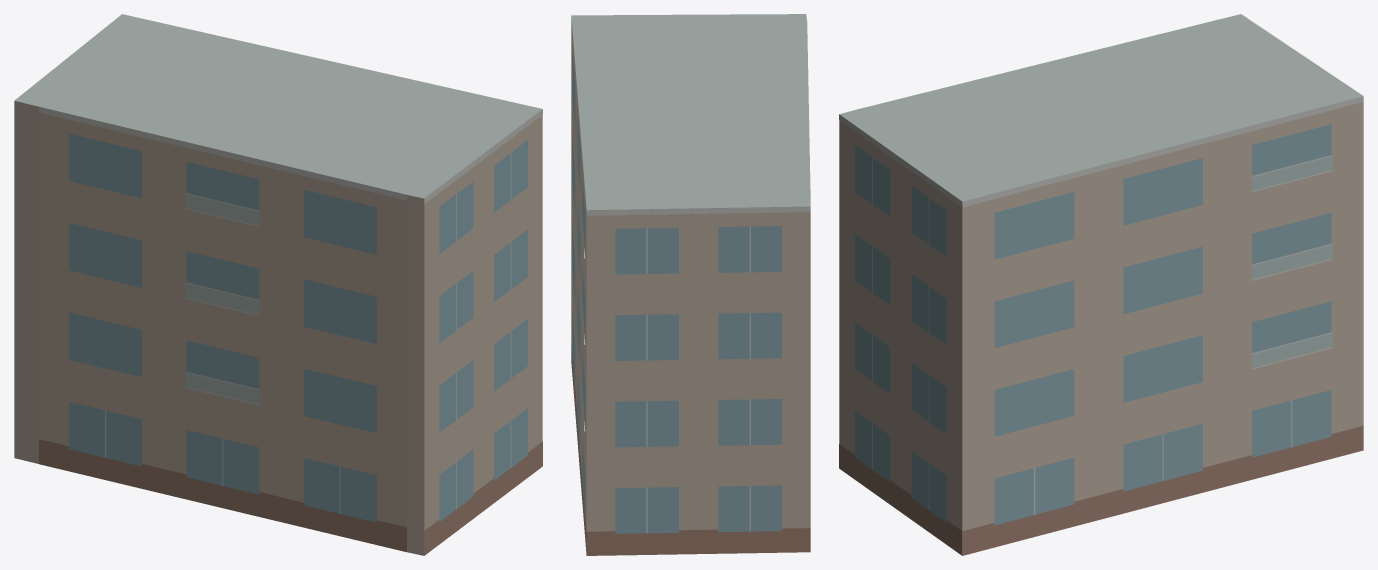
The model's file is survey-upis-32762807.glb.
The picture shows the model from 3 angles, left to right: view 1: azimuth 30°, elevation 25°; view 2: azimuth 150°, elevation 25°; view 3: azimuth 270°, elevation 25°; orthographic projection. The views are drawn at different scales.
Parts seen in each view (by area): view 1: survey-upis-32762807.tmp; view 2: survey-upis-32762807.tmp; view 3: survey-upis-32762807.tmp.
Boxes of the visible parts, x1,y1,x2,y2 form: survey-upis-32762807.tmp: (14, 14, 542, 555); survey-upis-32762807.tmp: (571, 14, 810, 555); survey-upis-32762807.tmp: (839, 14, 1363, 555).
Size of the model in its own units: 17.04 by 15 by 20.13.
